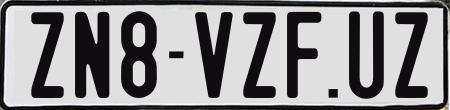8: (118, 11, 157, 104)
F: (285, 10, 321, 99)
N: (75, 12, 110, 98)
U: (347, 8, 382, 99)
V: (193, 11, 232, 101)
Z: (394, 12, 431, 104), (31, 11, 67, 100), (243, 12, 277, 104)
